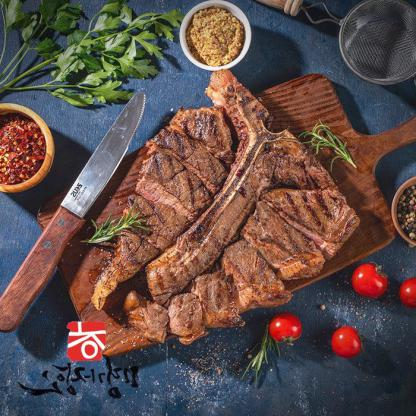Carne: (86, 105, 233, 303), (241, 209, 334, 270), (266, 186, 350, 246), (223, 240, 297, 303), (197, 268, 247, 325), (169, 294, 209, 340), (128, 300, 165, 342)
